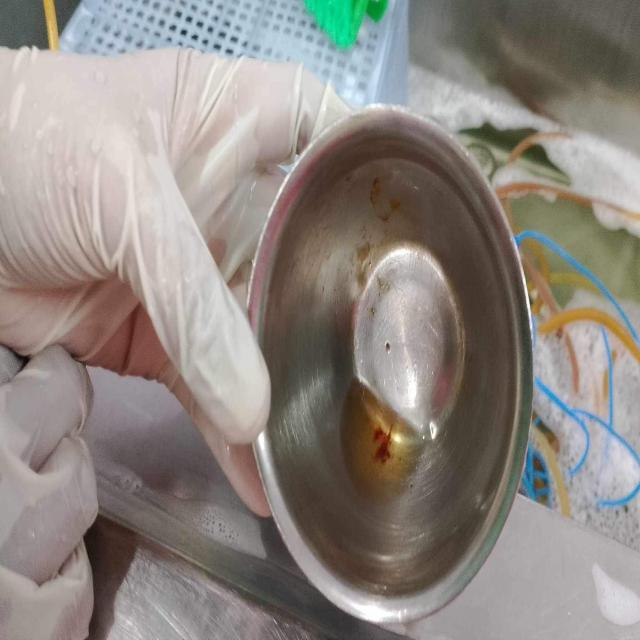General: (244, 101, 536, 628)
Infectious: (0, 43, 354, 636)
